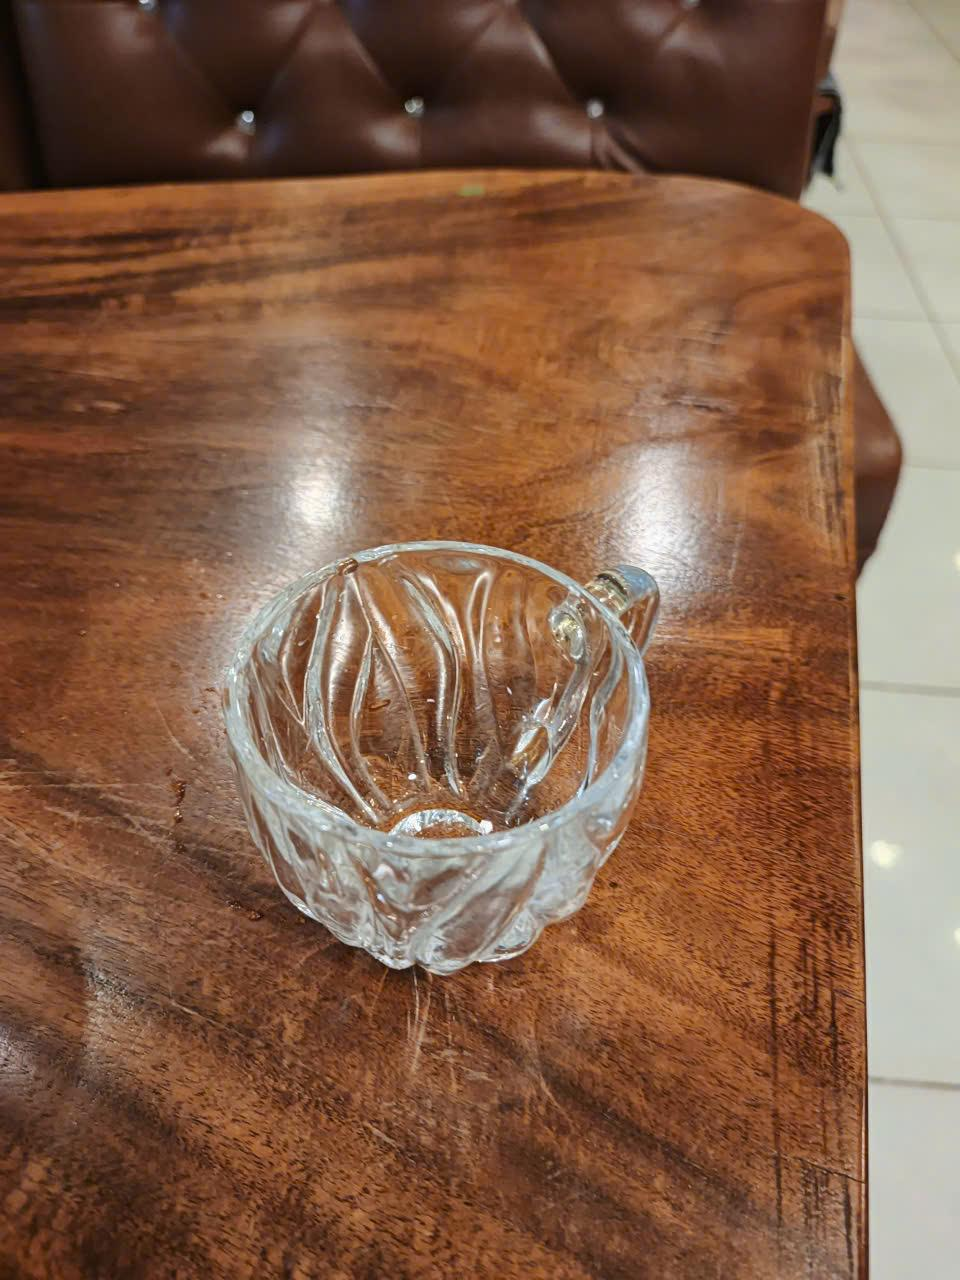Vo co: (235, 543, 659, 981)
